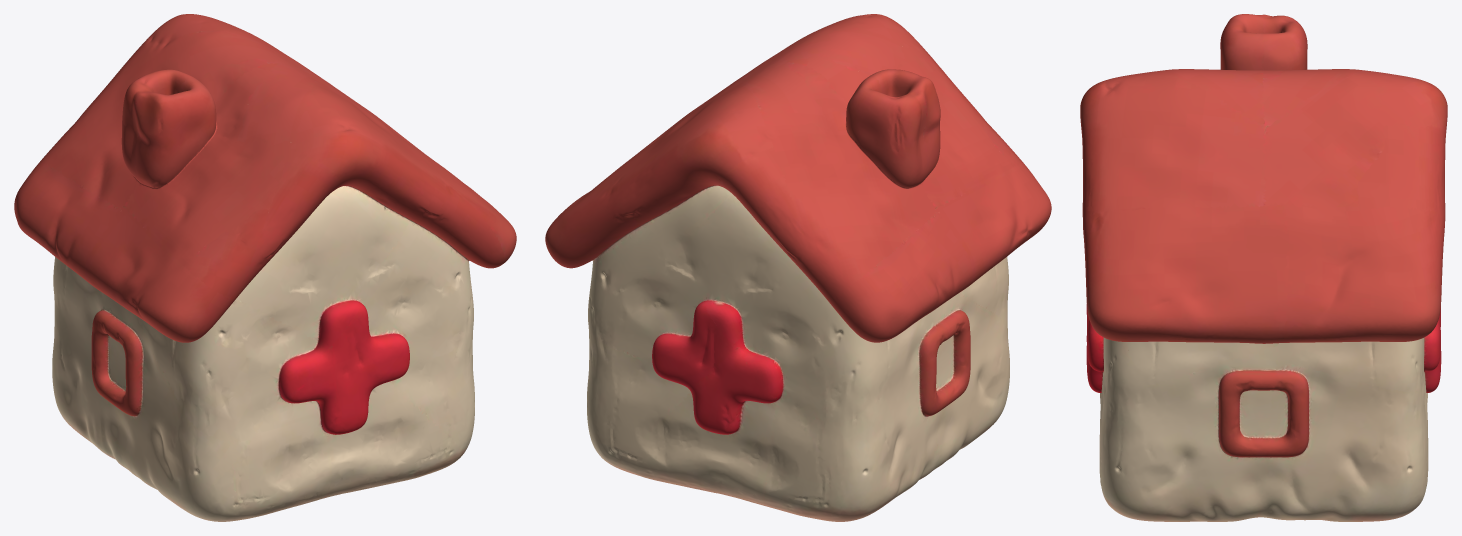
File: shelter.glb
3 renders of one model, left to right at view 1: azimuth 30°, elevation 25°; view 2: azimuth 150°, elevation 25°; view 3: azimuth 270°, elevation 25°, orthographic.
Visible parts, largest first — view 1: Mesh_0; view 2: Mesh_0; view 3: Mesh_0.
Part boxes in pixels (x1=…): Mesh_0: x1=14, y1=14, x2=516, y2=521; Mesh_0: x1=545, y1=14, x2=1051, y2=521; Mesh_0: x1=1080, y1=14, x2=1447, y2=521.
Size of the model in its own units: 0.1164 by 0.12 by 0.1018.
1 material, 1 textured.
